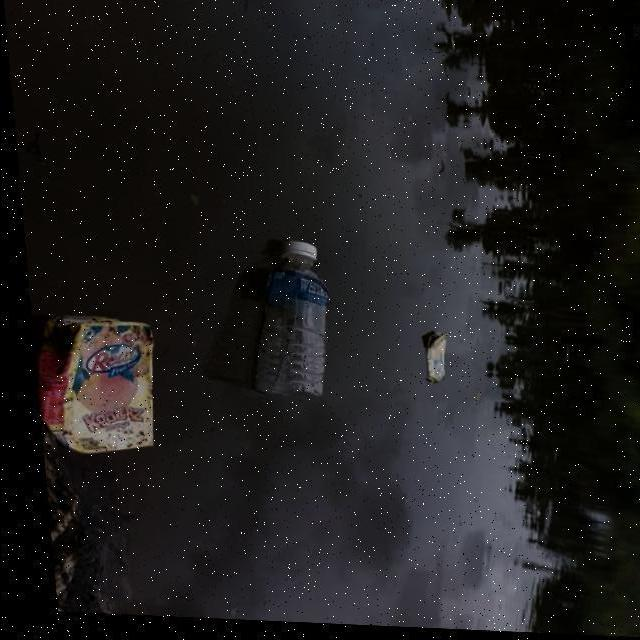Bottle: (254, 224, 334, 422)
Box: (32, 304, 164, 468), (414, 333, 452, 395)
